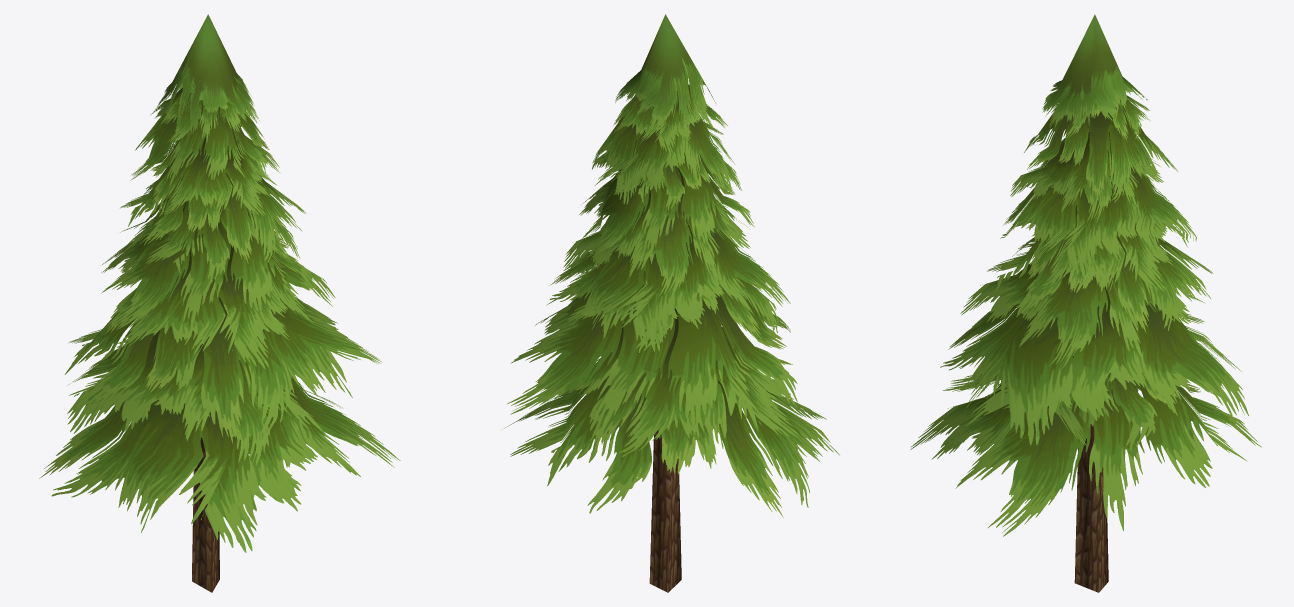
Rendered from spruce1_LOD1.fbx.
3 views of the same model, side by side, from view 1: azimuth 30°, elevation 25°; view 2: azimuth 150°, elevation 25°; view 3: azimuth 270°, elevation 25° (orthographic).
Parts seen in each view (by area): view 1: spruce1_LOD1; view 2: spruce1_LOD1; view 3: spruce1_LOD1.
Boxes of the visible parts, x1,y1,x2,y2 form: spruce1_LOD1: (39,14,400,592); spruce1_LOD1: (504,14,839,592); spruce1_LOD1: (910,14,1261,592).
Bounding box in the file's own units: 453 × 705 × 439.
